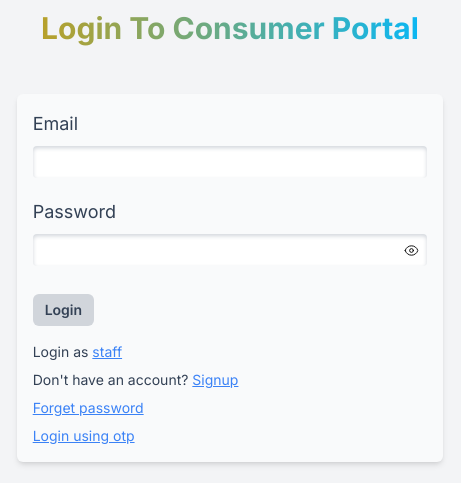
Test case: login page › Should toggle password visibility
The width and height of the screenshot is (461, 483).
Click the picture with test id "password__hidden".
click(412, 251)  # box [404,243,419,258]
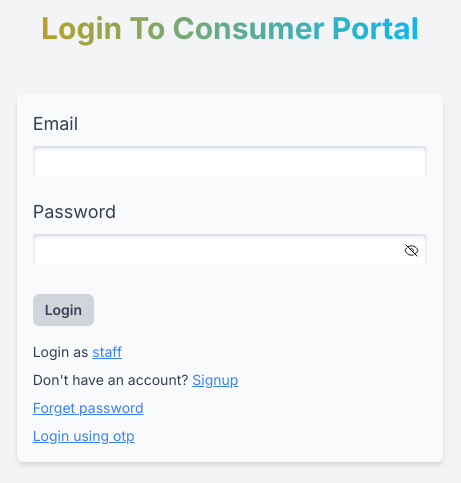
Expected: the picture with test id "password__visible" is shown, [404,243,419,258]
